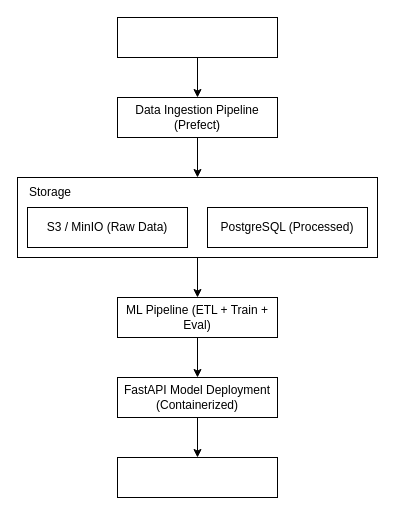
Image size: 395x515. Some labels were removed from this diagram. The centre of each missing label's shape, as x and y in pixels:
"Data Sources (IoT / Sensors)" goes at [197,37].
"Monitoring & Retraining (Prefect + MLflow)" goes at [197,477].
